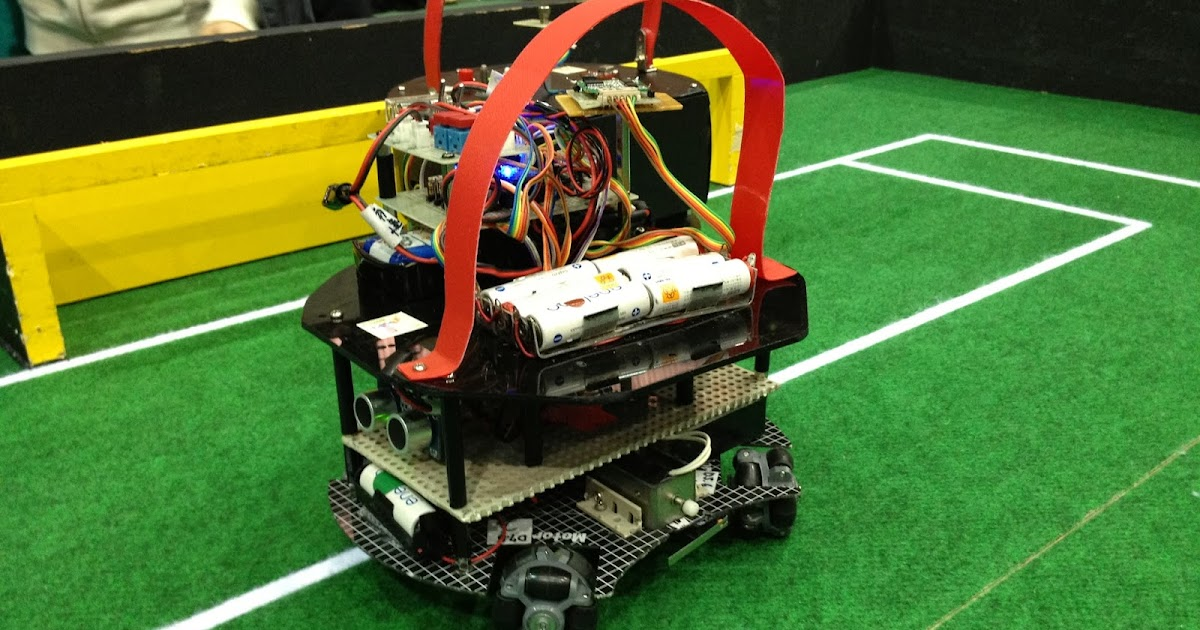Goal: (2, 114, 294, 371)
Robot: (294, 1, 824, 630)
